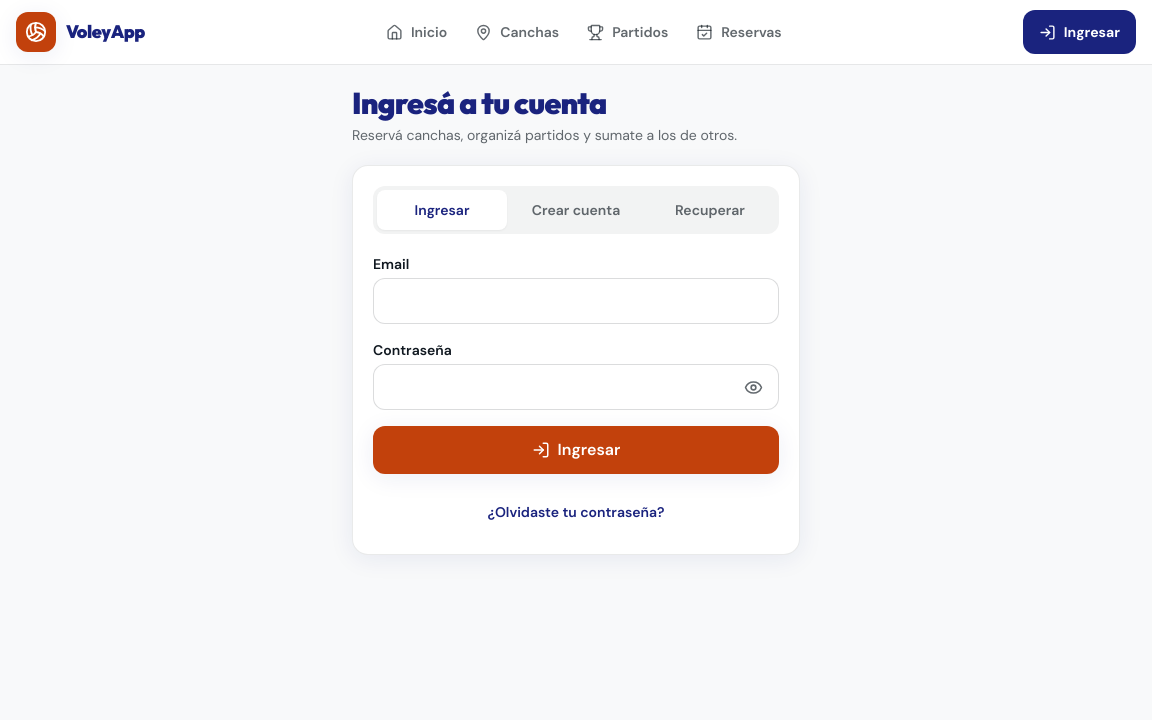
Test: pantalla de ingreso › muestra el error del servidor al ingresar
The image size is (1152, 720).
In the field labelled "Email": (576, 301) [373, 278, 779, 324], type "ana@mail.com"
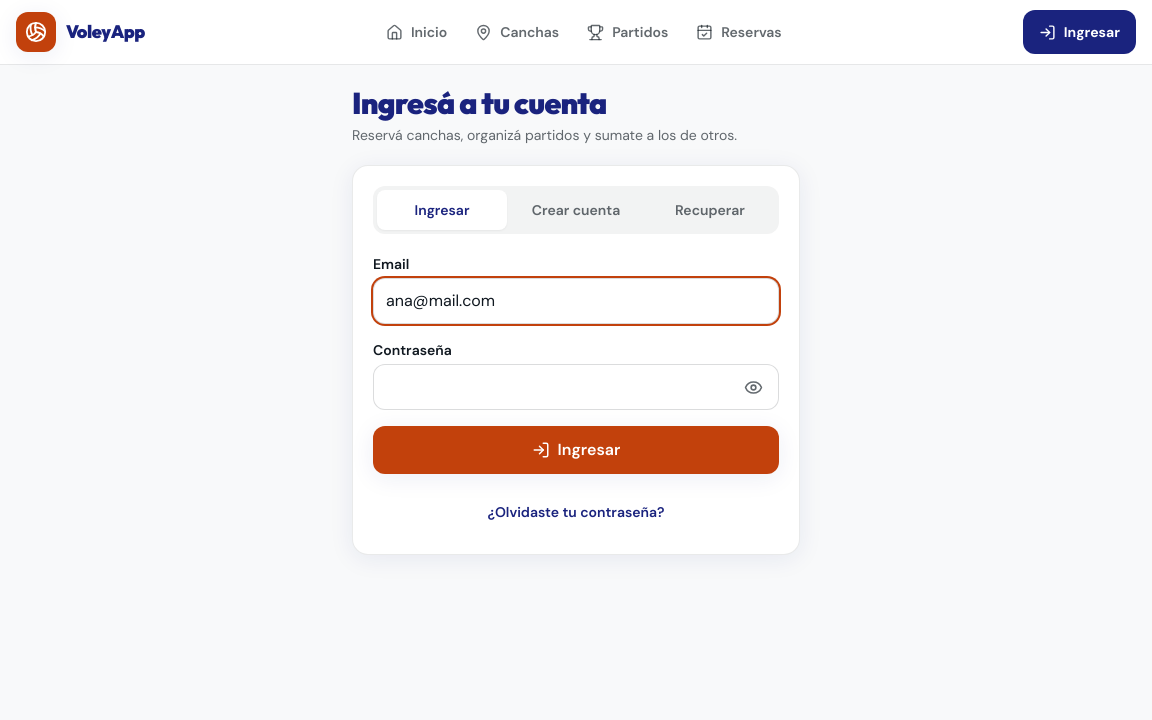
In the password field labelled "Contraseña": (576, 387) [373, 364, 779, 410], type "equivocada"
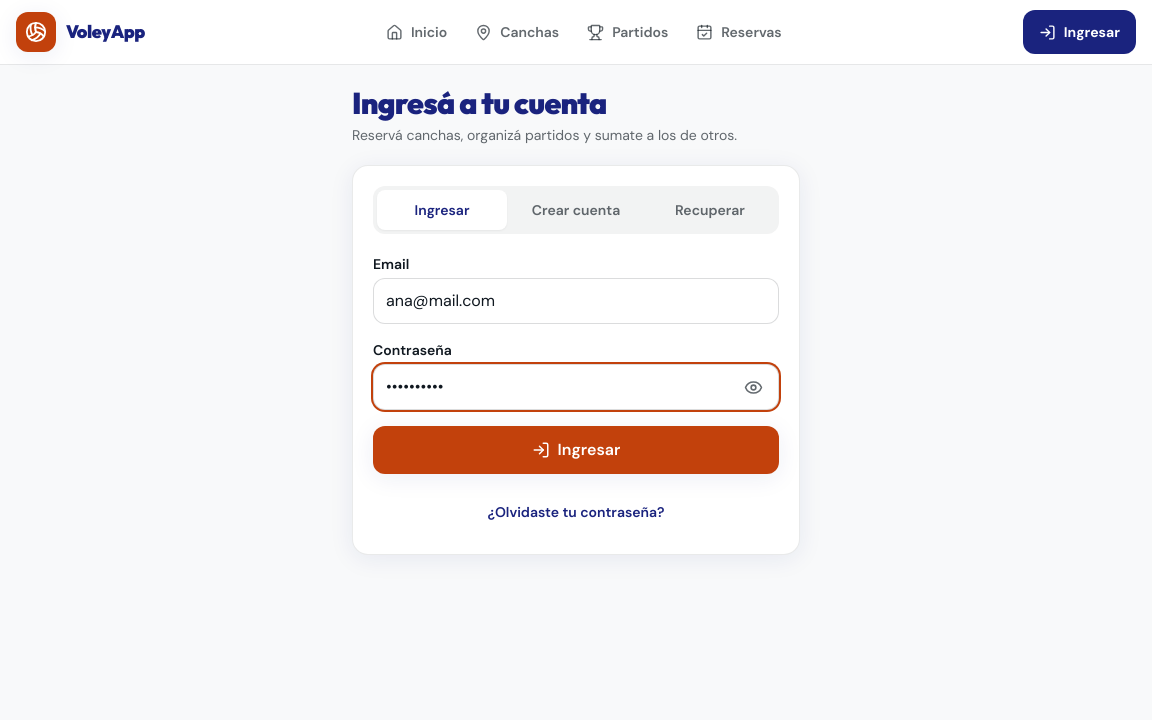
Click the button "Ingresar": (576, 450) [373, 426, 779, 474]
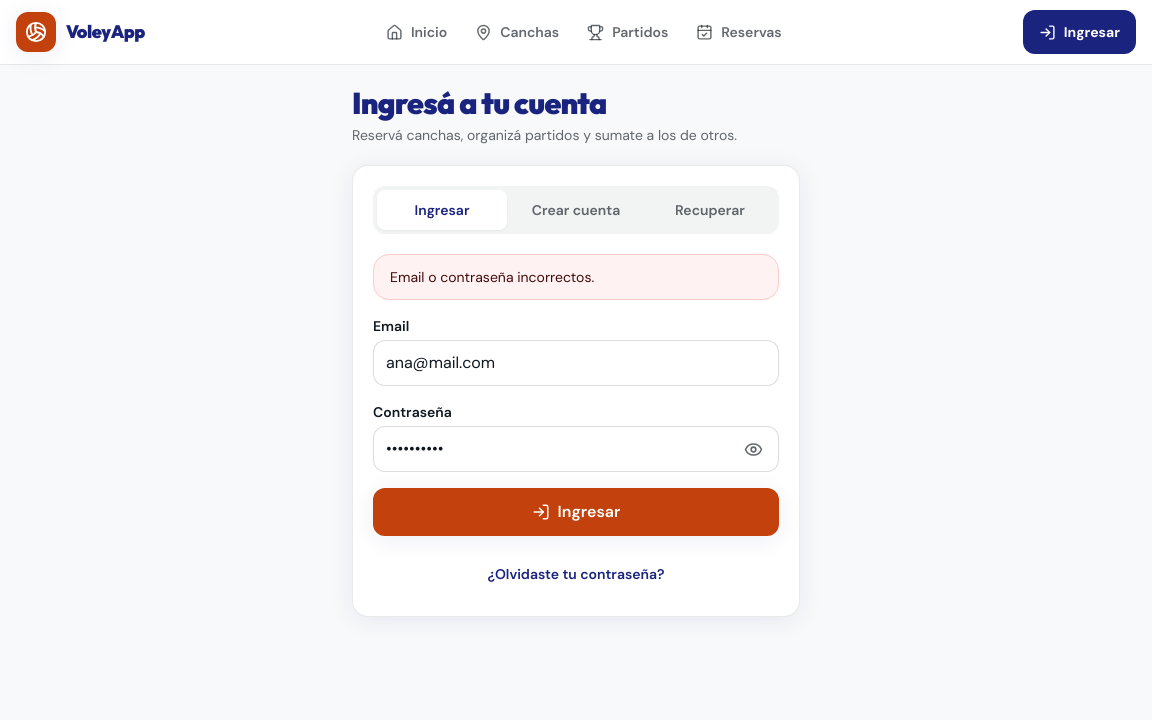
expect the text "Email o contraseña incorrectos." is shown: met, box [390, 268, 594, 286]
